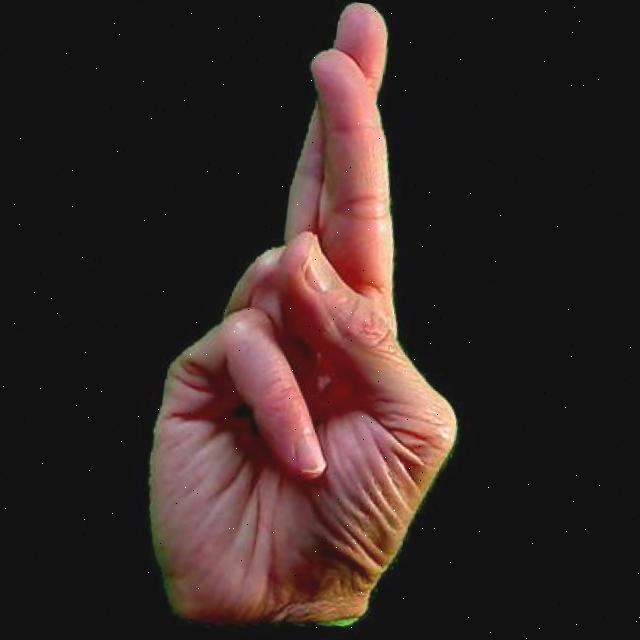r: (112, 0, 522, 640)
